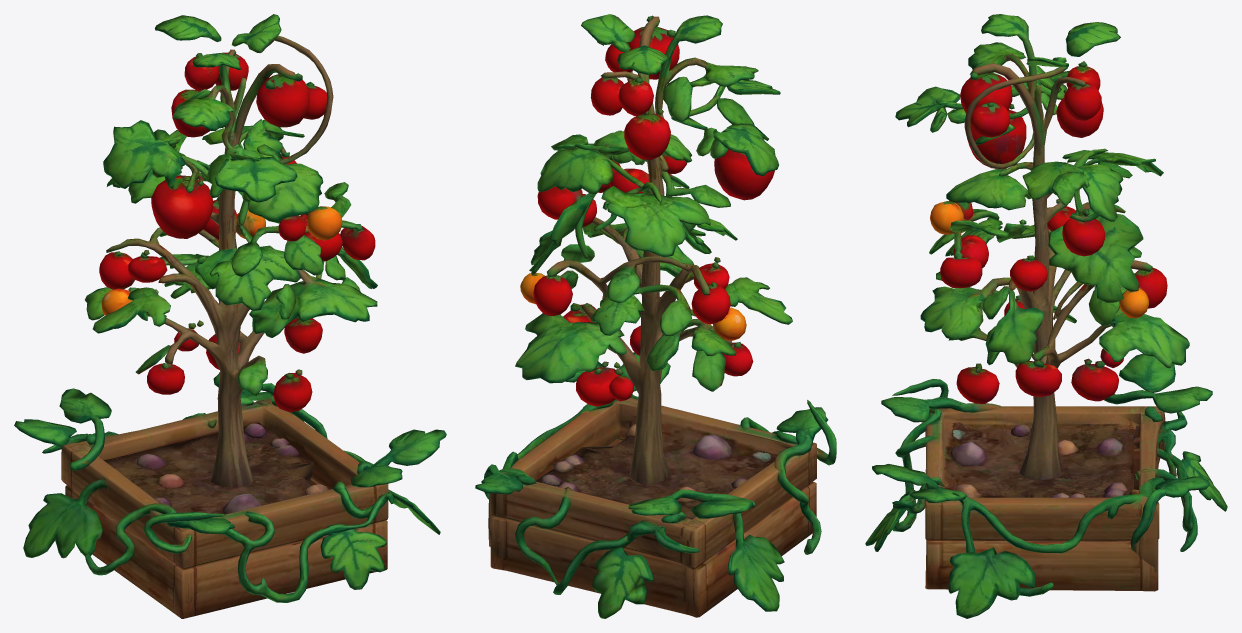
The model's file is tomato_tree.glb.
3 views of the same model, side by side, from view 1: azimuth 30°, elevation 25°; view 2: azimuth 150°, elevation 25°; view 3: azimuth 270°, elevation 25° (orthographic). The views are drawn at different scales.
Size of the model in its own units: 1.28 by 1.89 by 1.23.
Materials: 1 (1 with a texture image).
